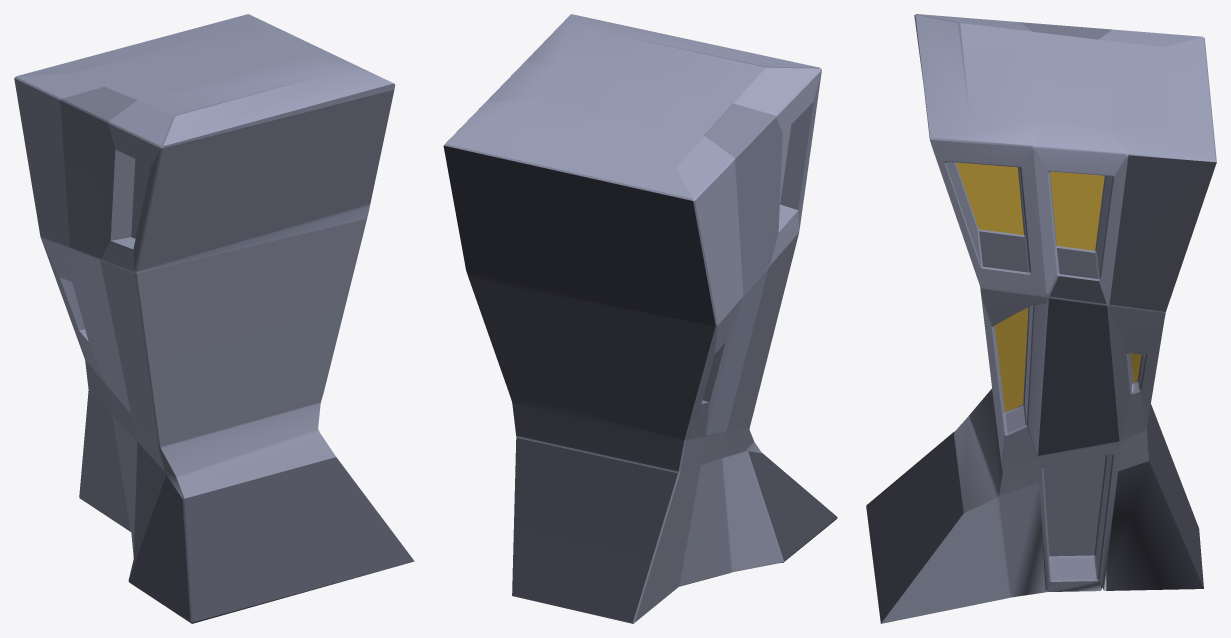
Rendered from hauntedhouse.fbx.
3 views of the same model, side by side, from view 1: azimuth 30°, elevation 25°; view 2: azimuth 150°, elevation 25°; view 3: azimuth 270°, elevation 25° (orthographic). The views are drawn at different scales.
Visible parts, largest first — view 1: haunted_house; view 2: haunted_house; view 3: haunted_house.
Part boxes in pixels (left/top/right/bottom): haunted_house: left=14, top=14, right=414, bottom=623; haunted_house: left=443, top=14, right=837, bottom=623; haunted_house: left=866, top=14, right=1216, bottom=623.
Bounding box in the file's own units: 12.64 × 22.52 × 14.38.
